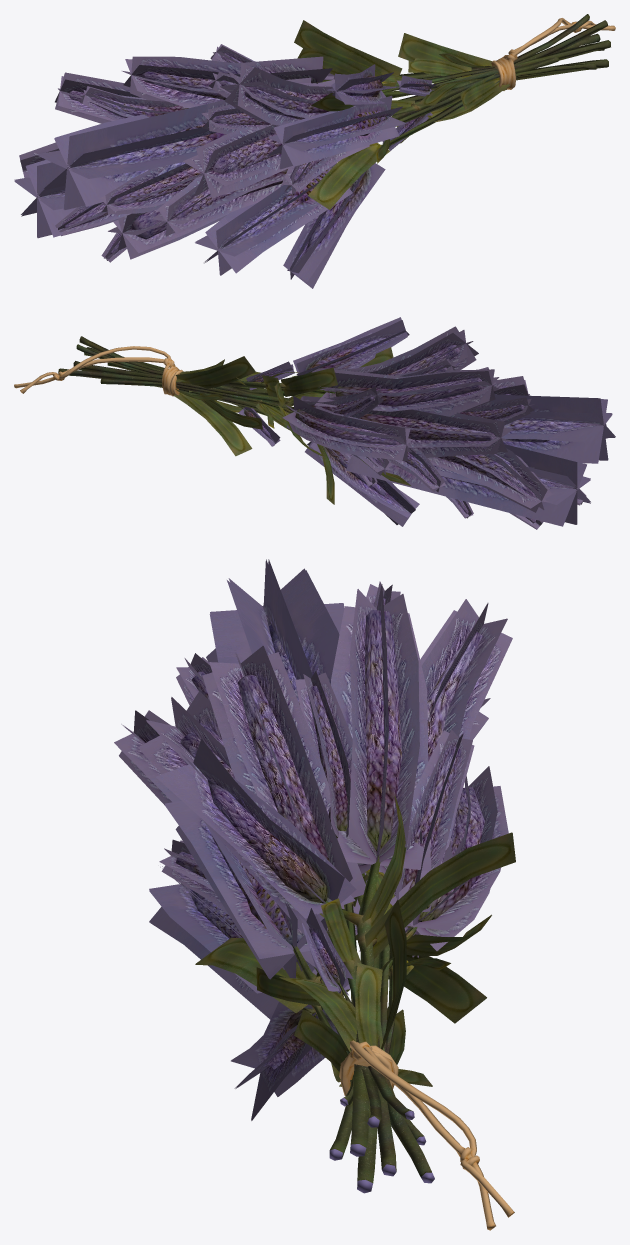
The model's file is sm70_053_blueherbitem01a.fbx.
The picture shows the model from 3 angles, top to bottom: view 1: azimuth 30°, elevation 25°; view 2: azimuth 150°, elevation 25°; view 3: azimuth 270°, elevation 25°; orthographic projection. The views are drawn at different scales.
Parts seen in each view (by area): view 1: LOD_1_Group_0_Sub_1__sm70_053_BlueHerbItem01A_mt__Env_AlphaT, LOD_1_Group_1_Sub_1__sm70_053_BlueHerbItem01A_Mat__Env_Defau; view 2: LOD_1_Group_0_Sub_1__sm70_053_BlueHerbItem01A_mt__Env_AlphaT, LOD_1_Group_1_Sub_1__sm70_053_BlueHerbItem01A_Mat__Env_Defau; view 3: LOD_1_Group_0_Sub_1__sm70_053_BlueHerbItem01A_mt__Env_AlphaT, LOD_1_Group_1_Sub_1__sm70_053_BlueHerbItem01A_Mat__Env_Defau.
Boxes of the visible parts, <box> form: LOD_1_Group_0_Sub_1__sm70_053_BlueHerbItem01A_mt__Env_AlphaT: <box>14,14,610,288</box>; LOD_1_Group_1_Sub_1__sm70_053_BlueHerbItem01A_Mat__Env_Defau: <box>491,18,615,90</box>; LOD_1_Group_0_Sub_1__sm70_053_BlueHerbItem01A_mt__Env_AlphaT: <box>58,317,615,529</box>; LOD_1_Group_1_Sub_1__sm70_053_BlueHerbItem01A_Mat__Env_Defau: <box>14,346,183,396</box>; LOD_1_Group_0_Sub_1__sm70_053_BlueHerbItem01A_mt__Env_AlphaT: <box>114,559,515,1193</box>; LOD_1_Group_1_Sub_1__sm70_053_BlueHerbItem01A_Mat__Env_Defau: <box>339,1040,514,1230</box>.
Bounding box in the file's own units: 0.6031 × 0.2232 × 0.1943.
